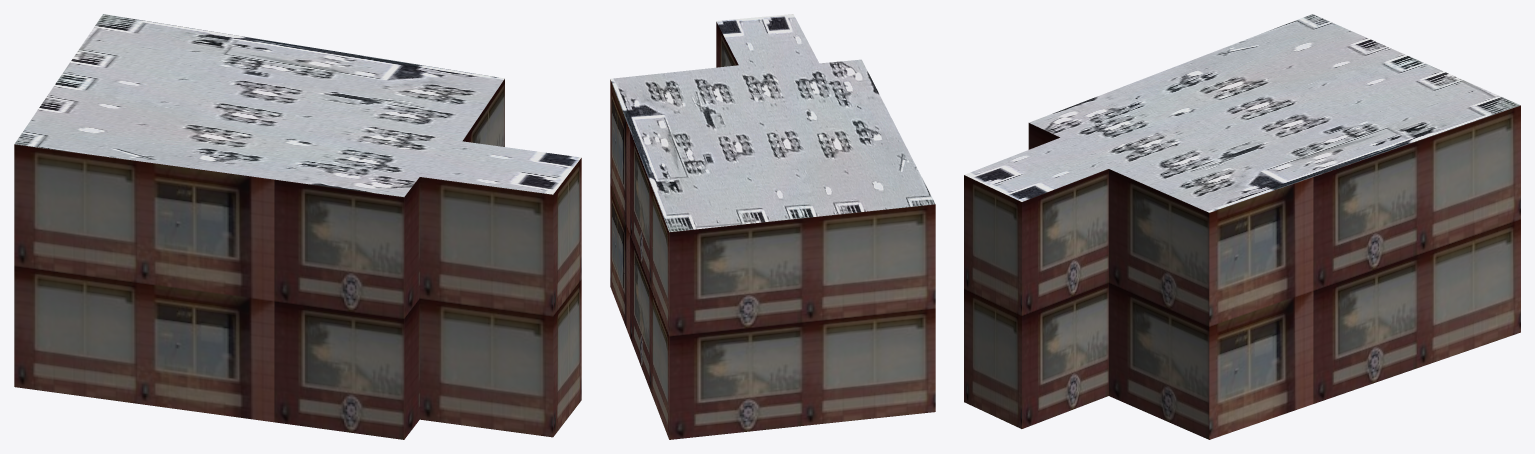
Rendered from ResTex__24.fbx.
3 renders of one model, left to right at view 1: azimuth 30°, elevation 25°; view 2: azimuth 150°, elevation 25°; view 3: azimuth 270°, elevation 25°, orthographic. The views are drawn at different scales.
Visible parts, largest first — view 1: CityEngineMaterial_13_m, CityEngineMaterial_4_m; view 2: CityEngineMaterial_13_m, CityEngineMaterial_4_m; view 3: CityEngineMaterial_13_m, CityEngineMaterial_4_m.
Part boxes in pixels (bbox=[...]): CityEngineMaterial_13_m: bbox=[14, 79, 581, 439]; CityEngineMaterial_4_m: bbox=[14, 14, 581, 196]; CityEngineMaterial_13_m: bbox=[610, 22, 935, 439]; CityEngineMaterial_4_m: bbox=[610, 14, 935, 232]; CityEngineMaterial_13_m: bbox=[964, 105, 1520, 439]; CityEngineMaterial_4_m: bbox=[964, 14, 1520, 212].
Bounding box in the file's own units: 11.26 × 6 × 13.33.
Materials: 2 (2 with a texture image).
